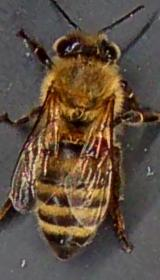varroa_mite: (89, 134, 114, 162)
